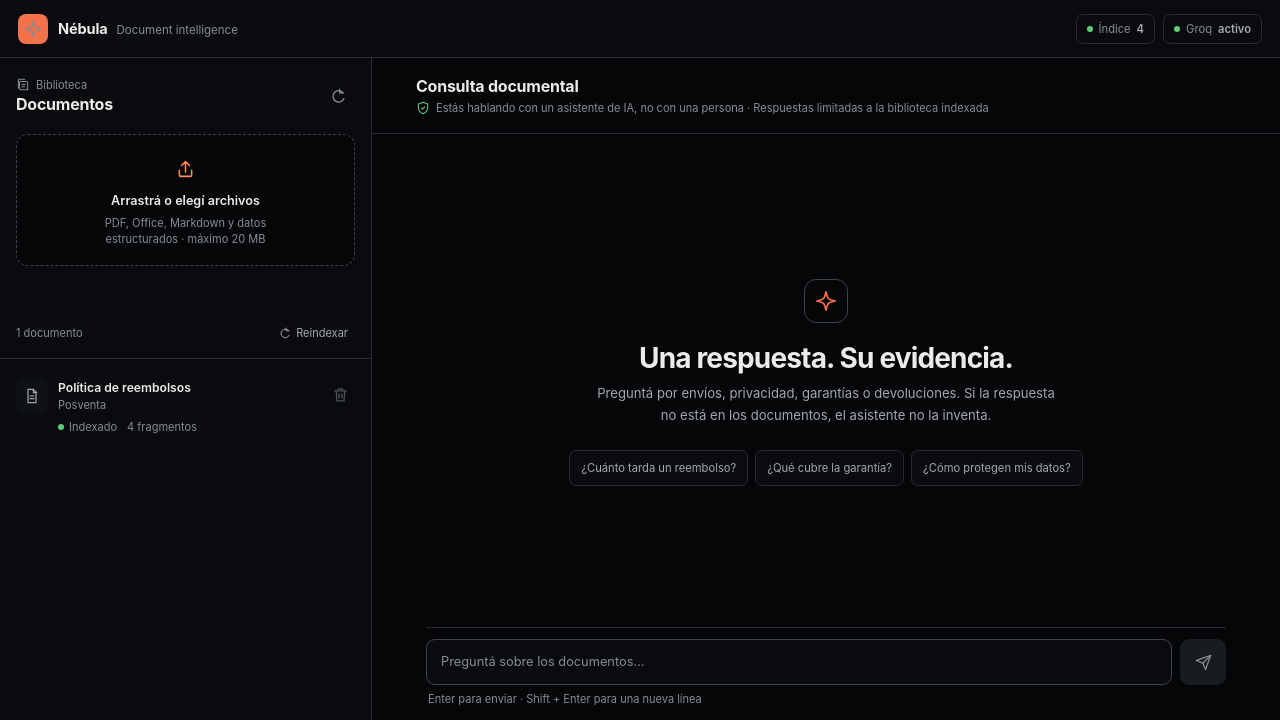
Test: Nébula RAG workspace › lets the user rate an answer as helpful and persists the choice via the API
Step 1. Type "¿Cuánto tarda un reembolso?" into the text box named "Escribí tu pregunta" → [799, 662], box [426,639,1172,685]
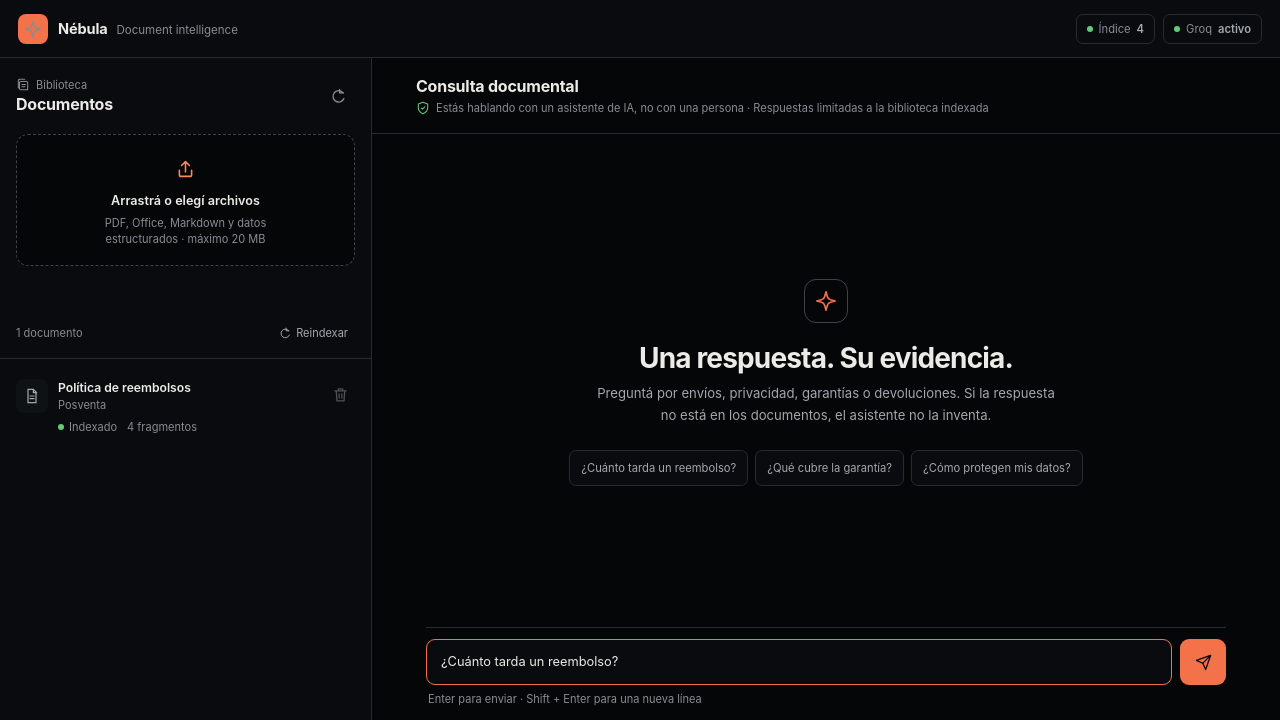
Step 2. Click the button named "Enviar pregunta" → [1203, 662], box [1180,639,1226,685]
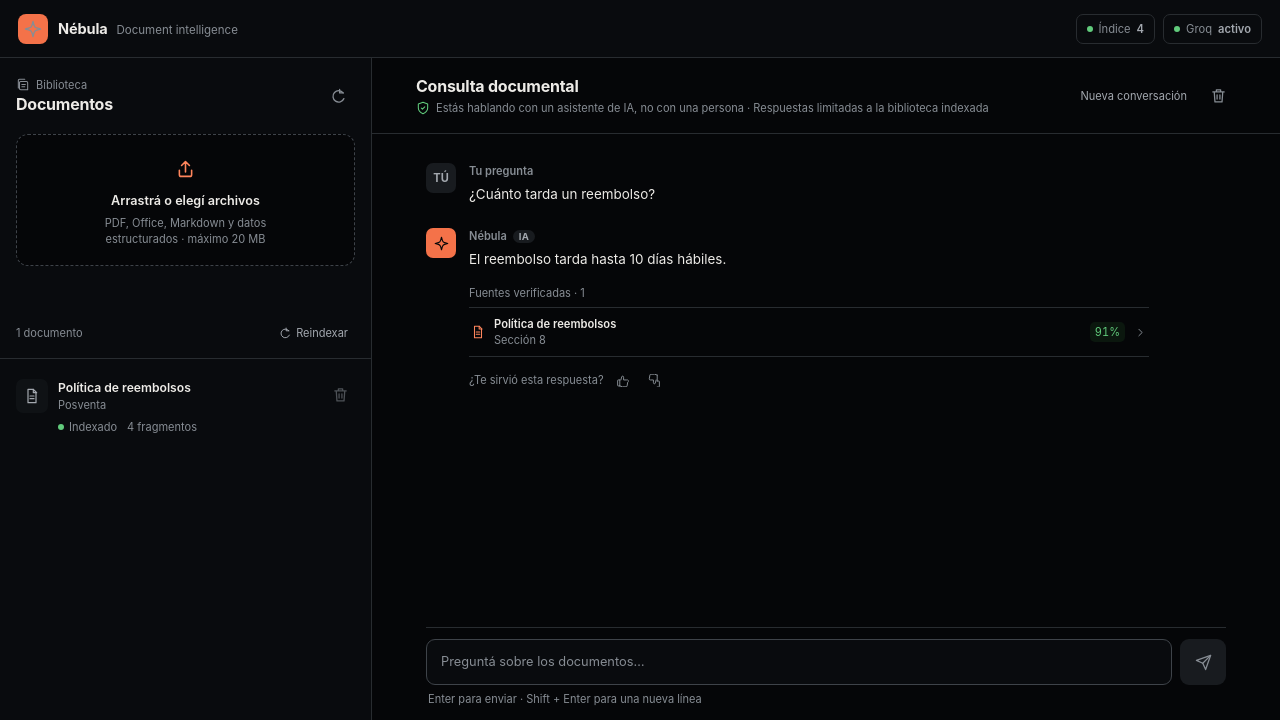
Result: the text "El reembolso tarda hasta 10 días hábiles." is shown at [469,251,726,267]
Result: the text "¿Te sirvió esta respuesta?" is shown at [469,373,604,387]
Step 3. Click the button named "Respuesta útil" → [623, 380], box [610,367,636,393]
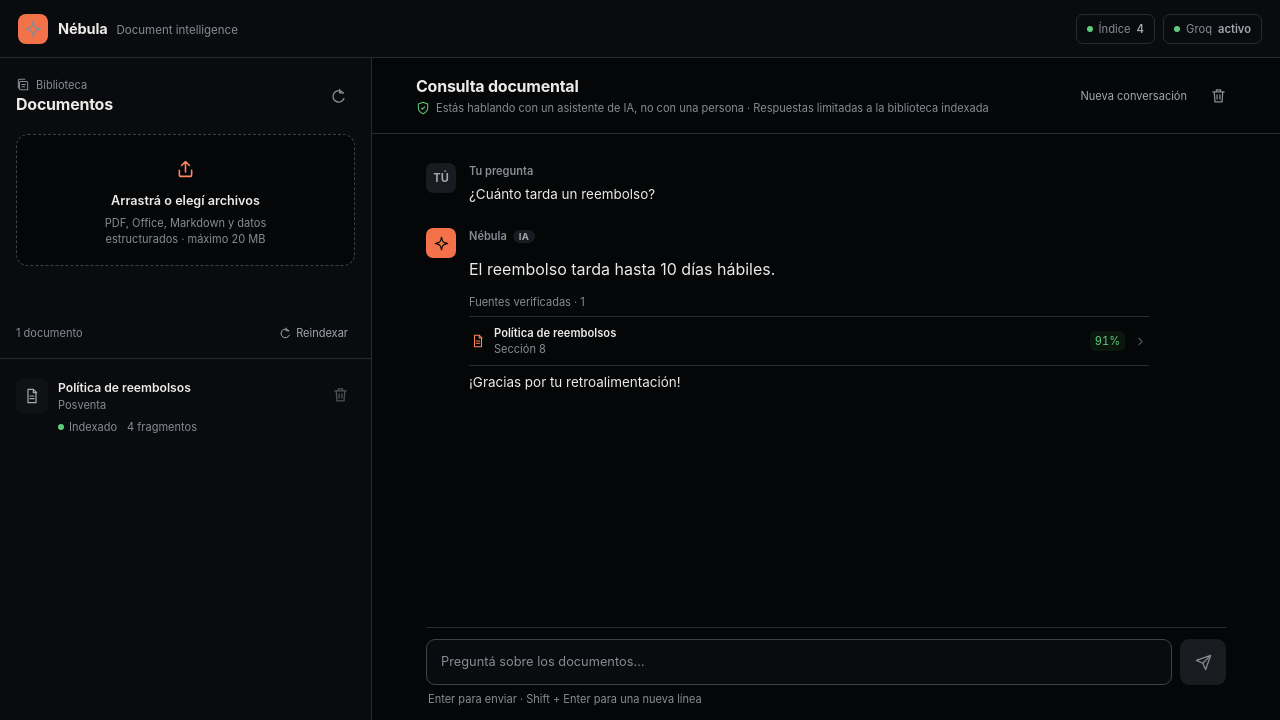
Result: the text "¡Gracias por tu retroalimentación!" is shown at [469,374,681,390]
Result: the button "Respuesta útil" is gone
